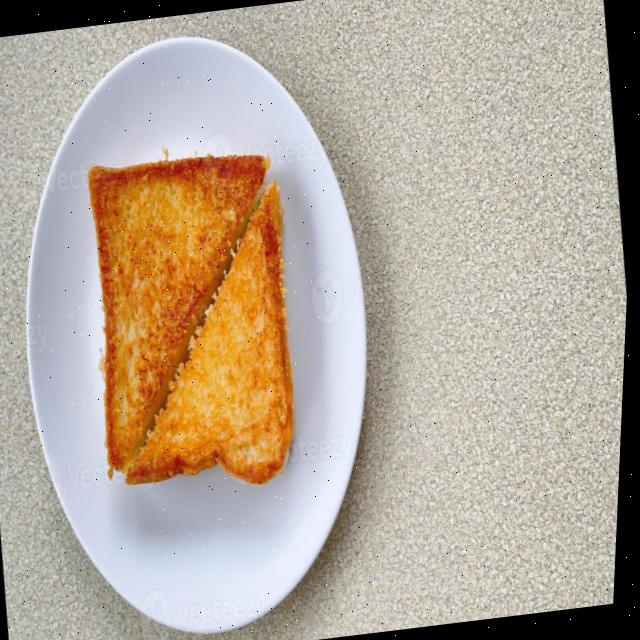Bread: (89, 154, 298, 484)
